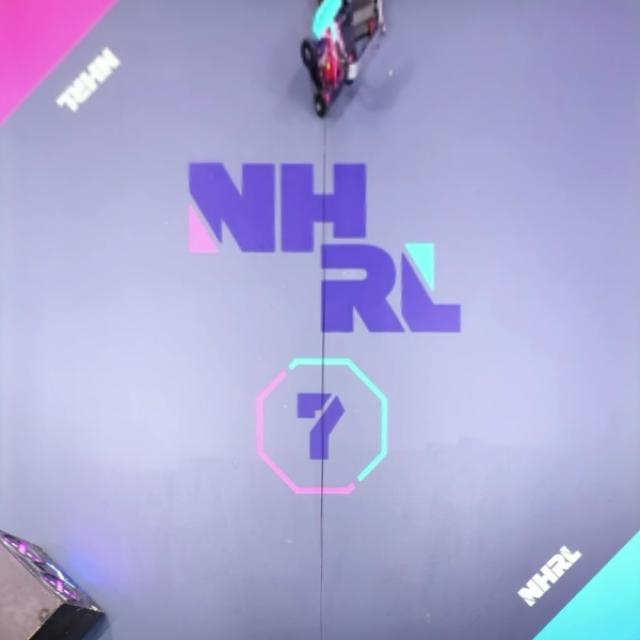housebot: (0, 531, 108, 640)
robot: (301, 0, 361, 118), (314, 0, 386, 61)
